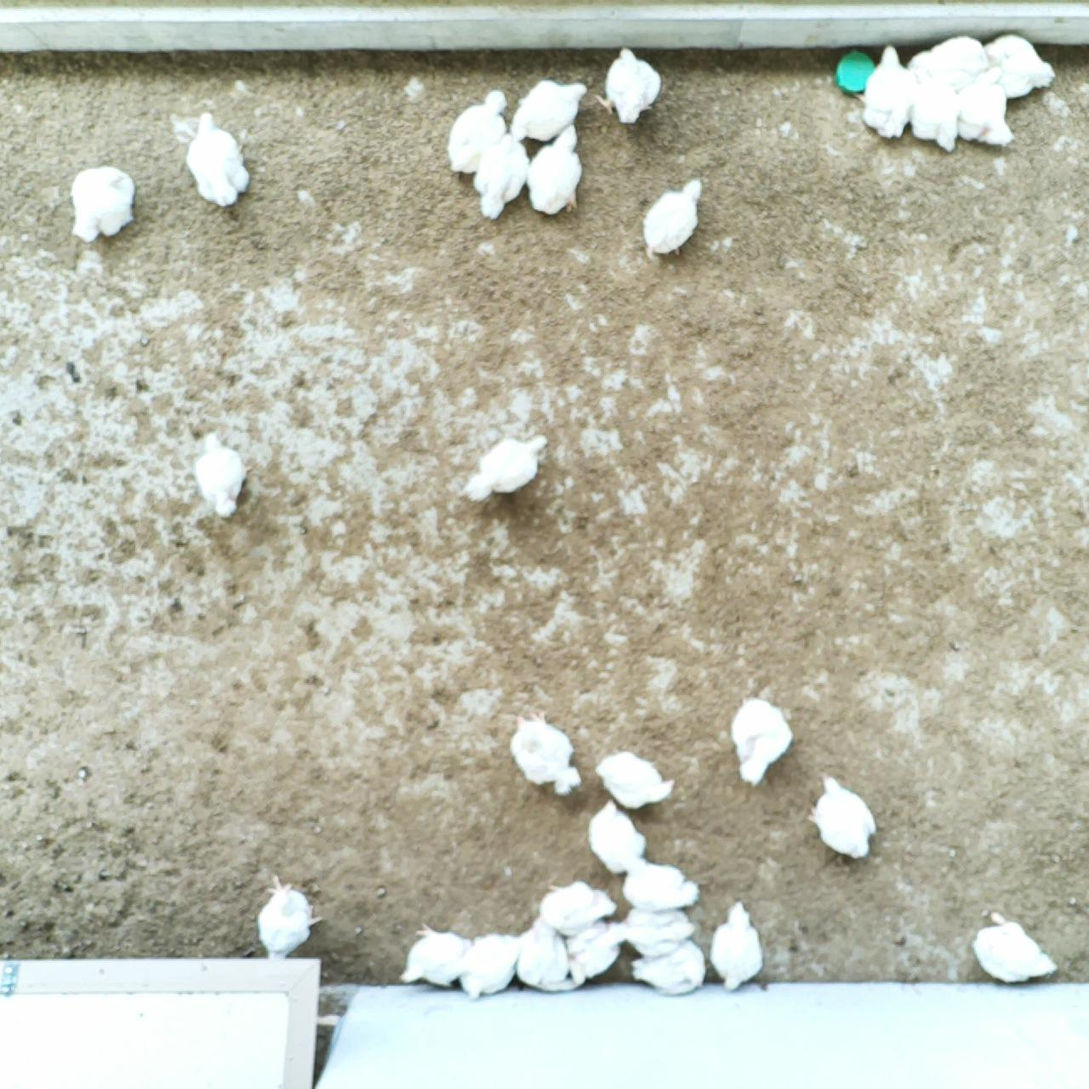chicken: (971, 911, 1062, 986), (252, 872, 326, 963), (186, 111, 254, 207), (461, 430, 550, 502), (67, 164, 141, 248), (809, 775, 882, 860), (445, 84, 510, 178), (504, 76, 591, 146), (510, 710, 579, 797), (902, 60, 967, 152), (727, 696, 792, 786), (860, 45, 914, 149), (523, 123, 583, 215), (639, 174, 703, 257), (594, 44, 662, 122), (901, 33, 986, 95), (595, 751, 678, 813), (193, 430, 252, 517), (976, 33, 1056, 97), (711, 901, 769, 989), (469, 134, 528, 220), (954, 63, 1012, 148), (399, 922, 472, 986), (516, 913, 574, 993), (587, 799, 649, 872), (450, 934, 523, 996), (564, 912, 626, 984), (629, 941, 705, 998), (538, 878, 618, 931), (621, 859, 700, 911), (611, 904, 691, 952)
